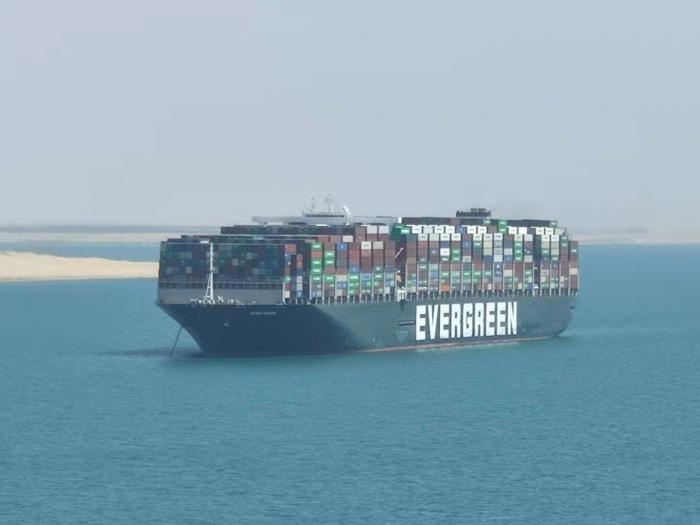Cargoship: (155, 191, 584, 364)
